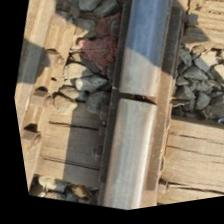person: (78, 45, 184, 158)
